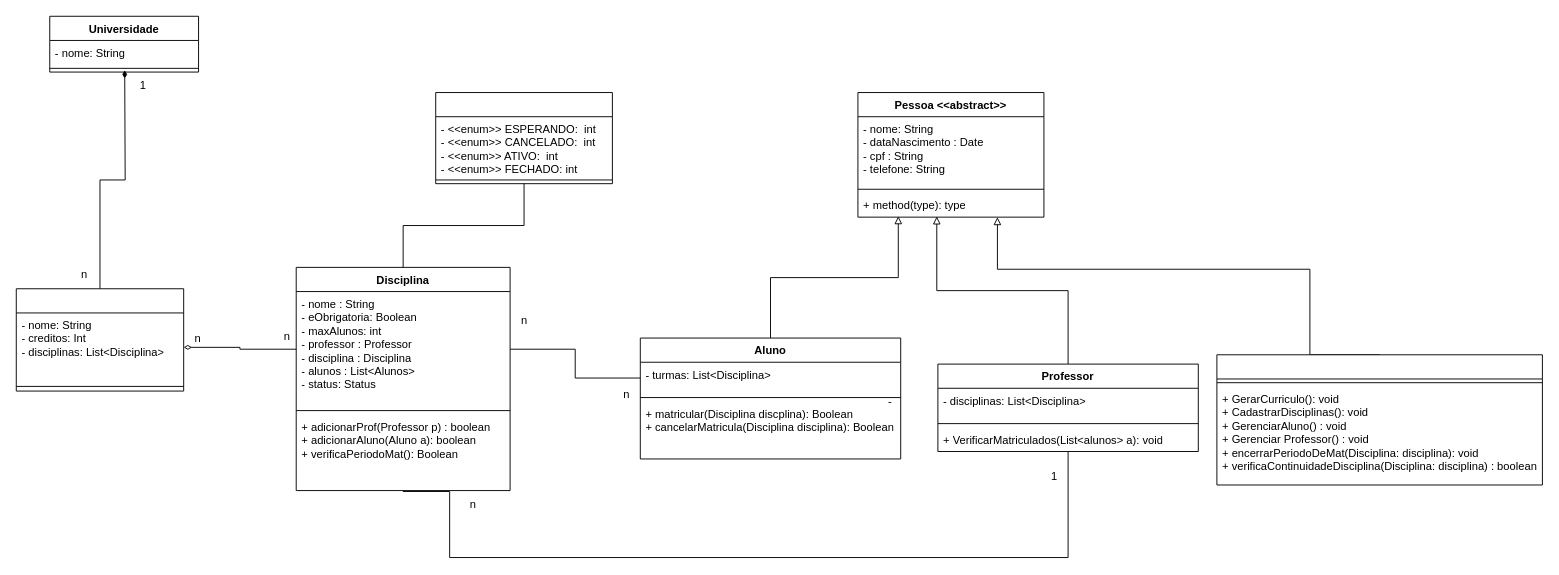
Some shapes in this 1559 by 575 pixel diagram are drawn without their labels. The box of each missing label's shape, as (x1, y1, x2, y2) in pixels:
Curso: (15, 288, 184, 391)
Secratario: (1216, 354, 1542, 485)
Status<<enum>>: (435, 92, 612, 184)
